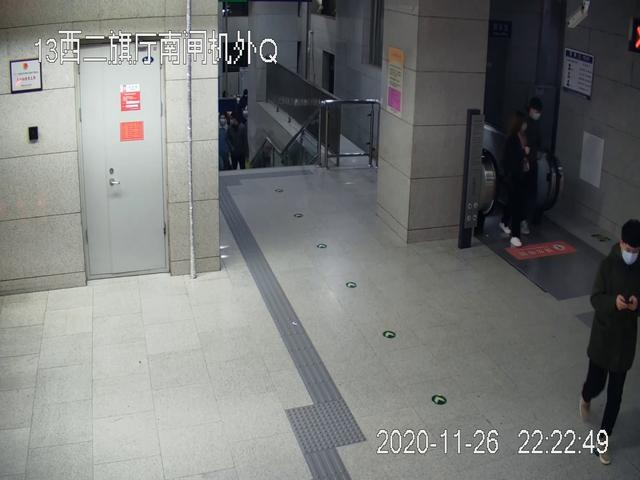person: (582, 220, 640, 463)
